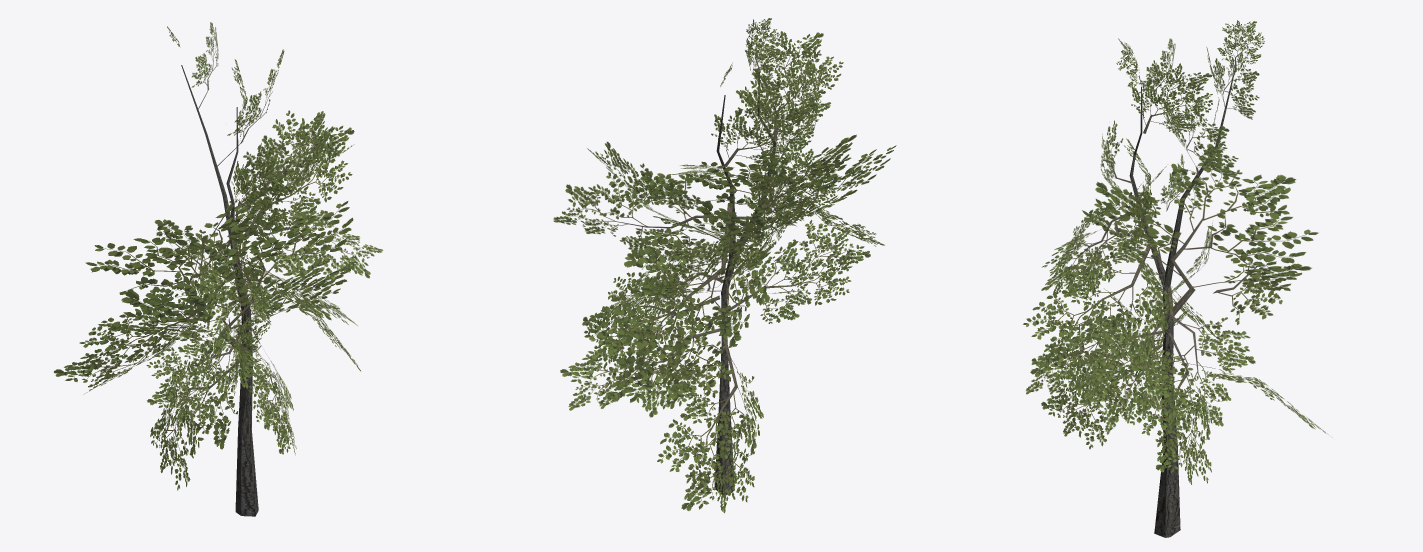
The model's file is tree-11.glb.
3 renders of one model, left to right at view 1: azimuth 30°, elevation 25°; view 2: azimuth 150°, elevation 25°; view 3: azimuth 270°, elevation 25°, orthographic. The views are drawn at different scales.
Visible parts, largest first — view 1: Tree-03-3; view 2: Tree-03-3; view 3: Tree-03-3.
Boxes of the visible parts, x1=… form: Tree-03-3: x1=54, y1=22, x2=383, y2=516; Tree-03-3: x1=553, y1=18, x2=896, y2=513; Tree-03-3: x1=1023, y1=20, x2=1332, y2=537.
Size of the model in its own units: 6.67 by 7.61 by 5.68.
3 materials, 3 textured.
